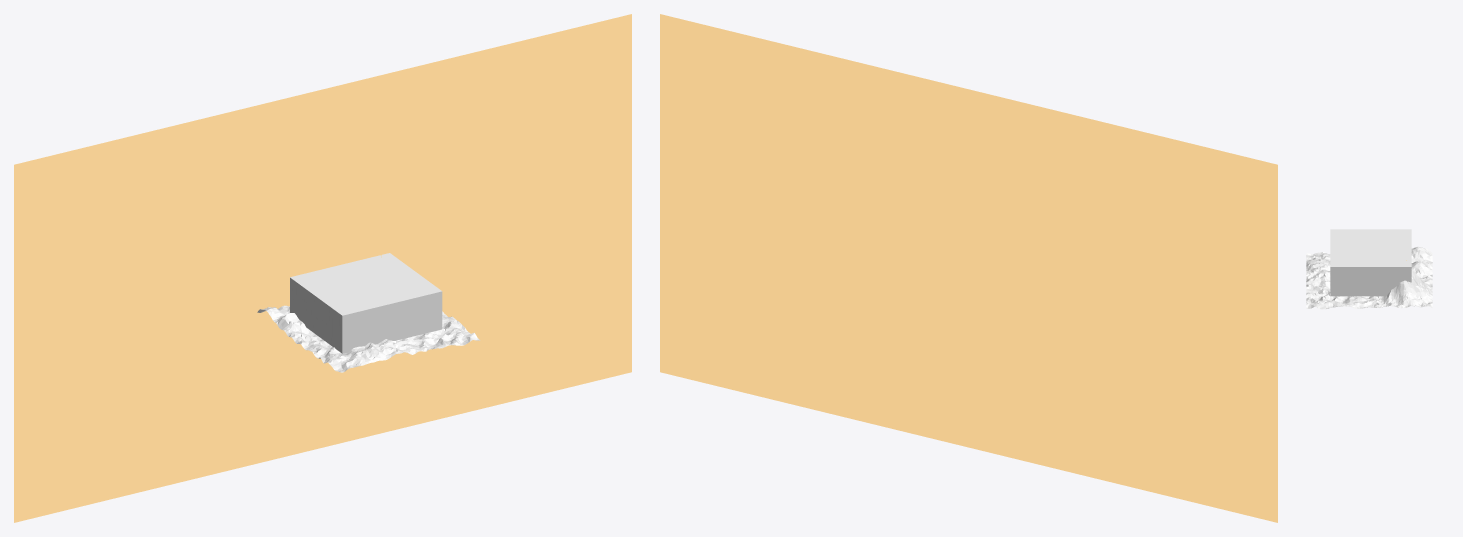
File: mountain.glb
The picture shows the model from 3 angles, left to right: view 1: azimuth 30°, elevation 25°; view 2: azimuth 150°, elevation 25°; view 3: azimuth 270°, elevation 25°; orthographic projection. The views are drawn at different scales.
Visible parts, largest first — view 1: HorizonGlow, Fog, Terrain; view 2: HorizonGlow; view 3: Fog, Terrain.
Boxes of the visible parts, x1=… form: HorizonGlow: x1=14, y1=14, x2=631, y2=522; Fog: x1=290, y1=253, x2=442, y2=353; Terrain: x1=257, y1=305, x2=480, y2=372; HorizonGlow: x1=660, y1=14, x2=1277, y2=522; Fog: x1=1330, y1=229, x2=1411, y2=296; Terrain: x1=1306, y1=247, x2=1432, y2=309.
Bounding box in the file's own units: 340 × 188 × 88.
